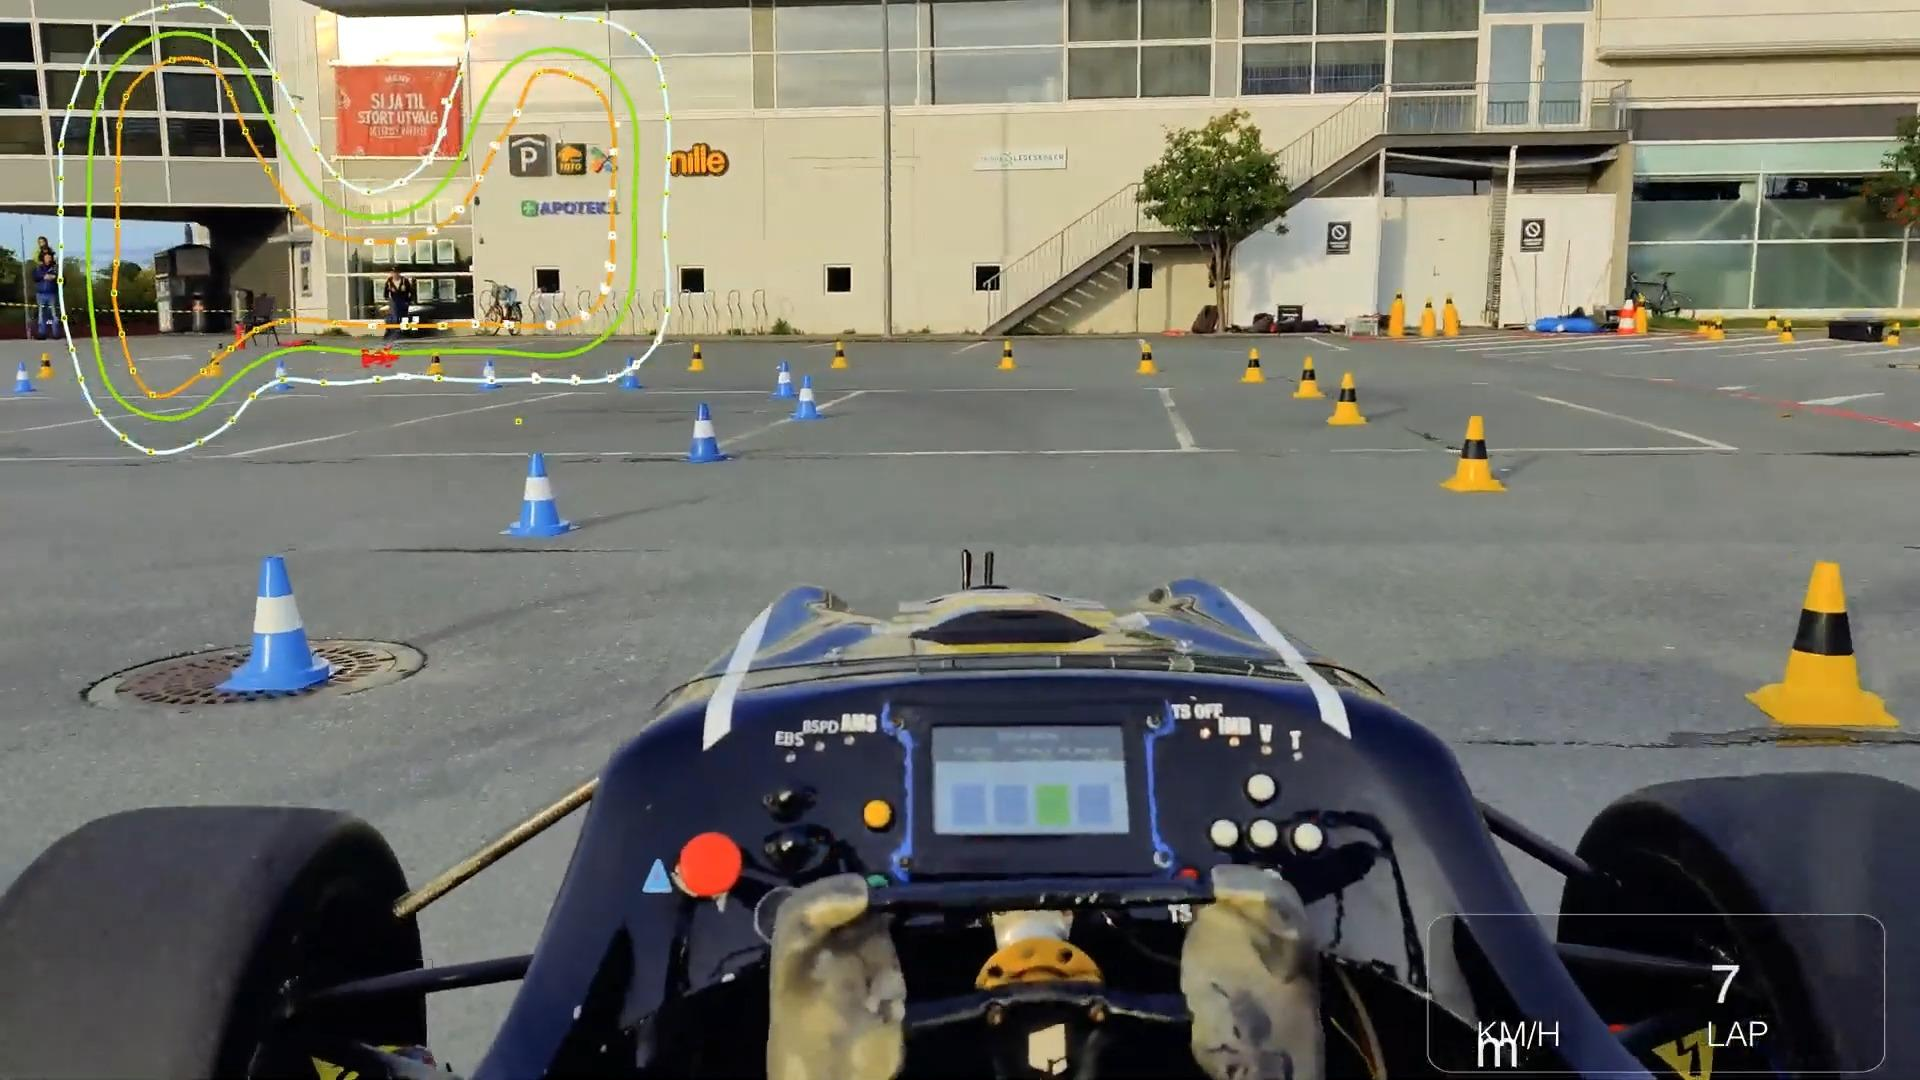blue_cone: (223, 543, 332, 698), (498, 447, 571, 542), (679, 398, 729, 467), (767, 357, 796, 400), (794, 376, 819, 421), (270, 356, 293, 392), (621, 355, 638, 390), (15, 359, 32, 393), (483, 359, 498, 393)
large_orange_cone: (1617, 299, 1636, 335)
yellow_cone: (1742, 549, 1900, 737), (1436, 411, 1507, 493), (1327, 369, 1370, 429), (1290, 353, 1325, 401), (1238, 345, 1269, 385), (1133, 339, 1163, 378), (994, 338, 1019, 372), (829, 339, 851, 372), (687, 342, 705, 373), (429, 349, 444, 377), (208, 352, 224, 377), (40, 353, 54, 378)
